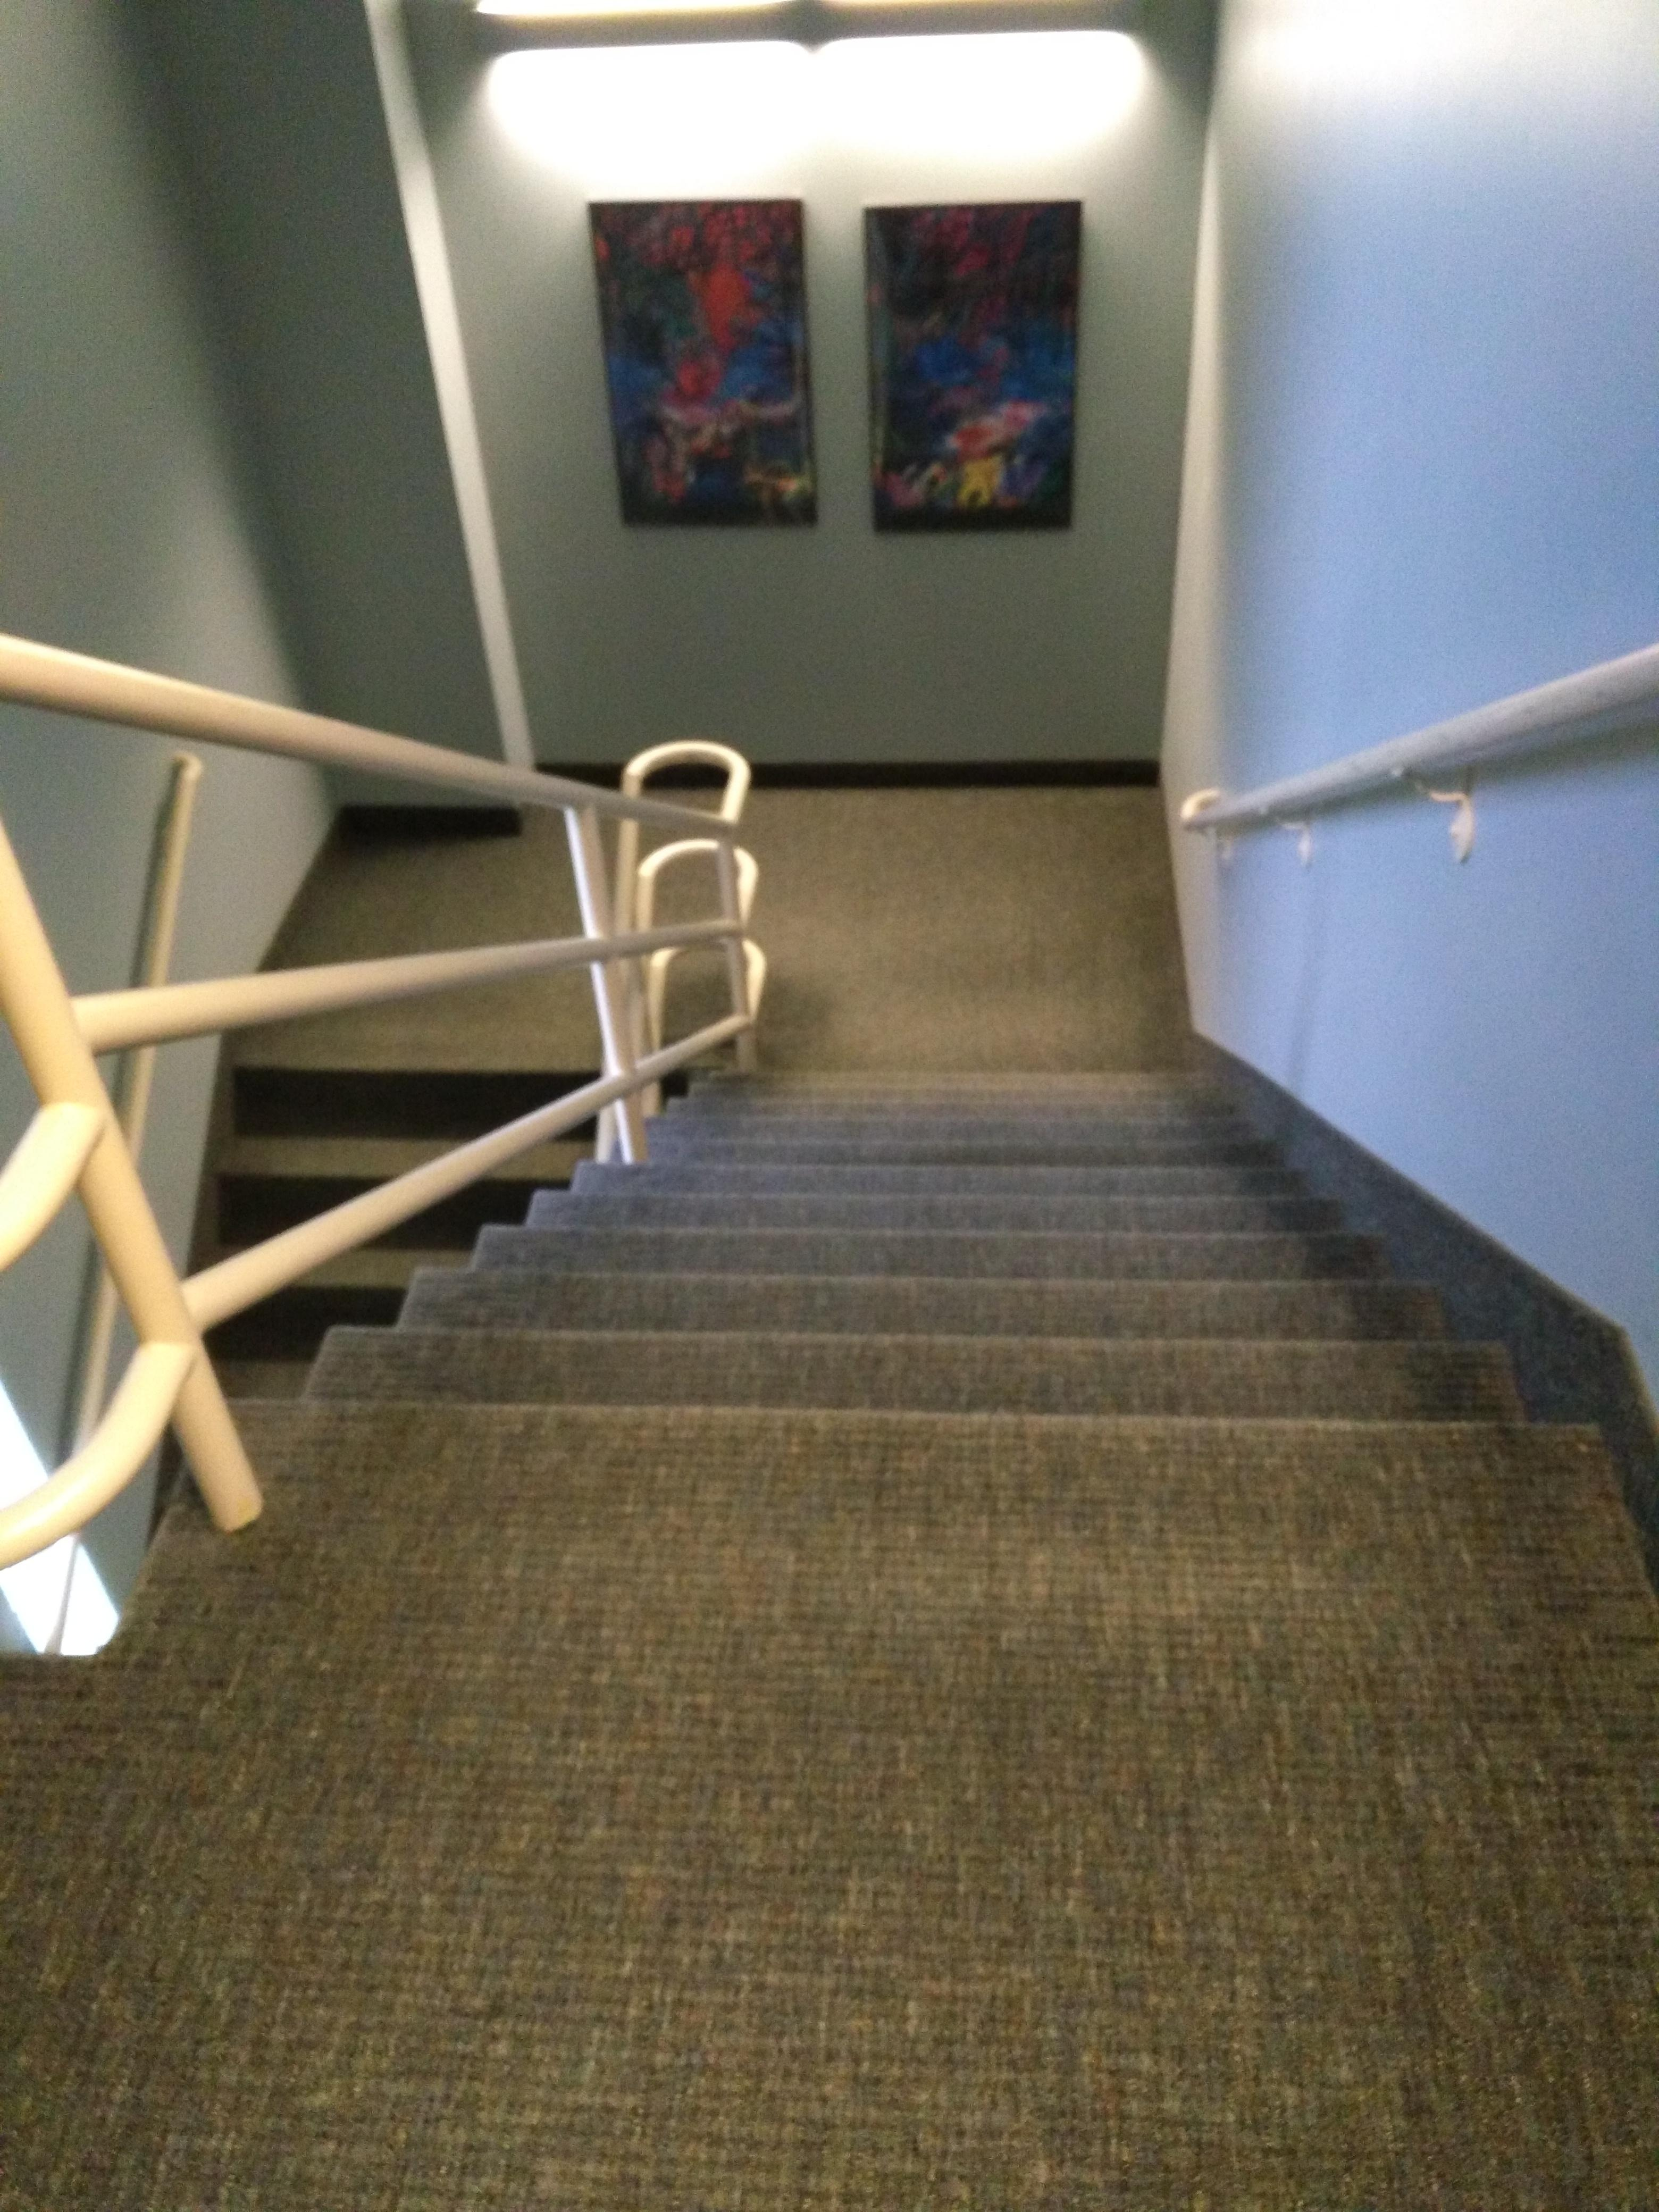stairs_down: (272, 1024, 1610, 1463)
